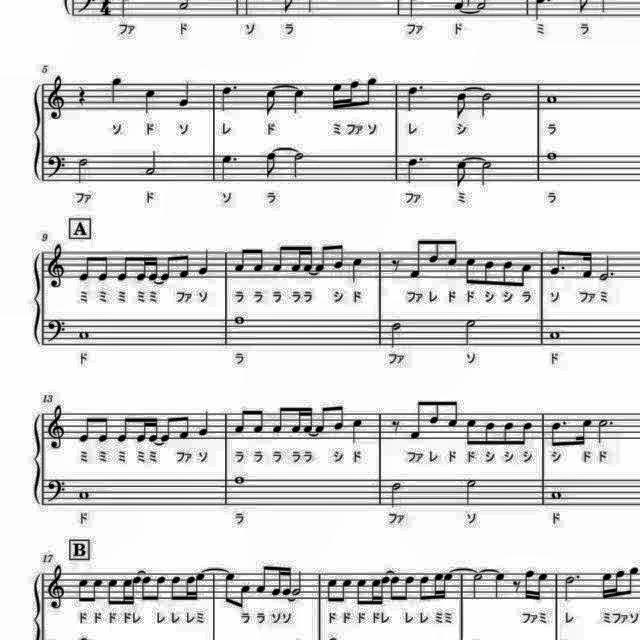Bass-clef: (44, 150, 68, 182), (44, 476, 68, 506), (46, 318, 70, 348)
Eighth-note: (408, 235, 426, 281), (408, 400, 424, 442), (549, 248, 569, 280), (220, 570, 237, 606), (263, 88, 281, 120), (263, 150, 281, 182), (550, 418, 568, 449), (454, 90, 471, 122), (114, 412, 130, 446), (76, 411, 92, 445), (114, 250, 130, 284), (96, 252, 112, 286), (362, 76, 378, 110), (254, 561, 270, 595), (271, 404, 287, 436), (446, 398, 462, 430), (446, 236, 462, 268), (272, 242, 288, 274), (76, 254, 92, 286), (96, 412, 112, 444), (176, 250, 192, 282), (332, 240, 348, 272), (462, 256, 478, 288), (462, 416, 478, 448), (352, 577, 368, 609), (158, 412, 174, 444), (104, 577, 120, 609), (454, 158, 470, 190), (158, 252, 174, 284), (140, 572, 156, 604), (426, 397, 442, 428), (332, 402, 348, 433), (176, 412, 192, 443), (498, 259, 514, 289), (250, 405, 266, 435), (250, 246, 266, 276), (168, 573, 184, 603), (90, 576, 106, 606), (74, 576, 90, 606), (518, 262, 534, 290), (426, 234, 440, 266), (232, 406, 248, 434), (314, 242, 328, 274), (232, 246, 248, 274), (417, 572, 431, 604), (626, 566, 640, 598), (483, 258, 497, 288), (314, 404, 328, 434), (324, 577, 338, 607), (403, 573, 417, 603), (155, 572, 169, 602), (500, 422, 516, 448), (483, 420, 497, 448), (239, 582, 253, 610), (614, 568, 626, 600), (520, 419, 534, 446), (342, 576, 354, 604), (390, 574, 400, 604)
Eighth-rest: (388, 256, 402, 276), (388, 416, 402, 436), (512, 578, 524, 598)
Full-note: (75, 328, 93, 344), (232, 474, 248, 490), (76, 486, 92, 502), (542, 93, 560, 107), (544, 148, 560, 162), (550, 488, 566, 502), (232, 313, 248, 327), (548, 328, 564, 340)
Half-dot: (562, 570, 582, 602), (597, 252, 617, 284), (594, 416, 614, 444)
Half-note: (142, 147, 160, 177), (387, 479, 405, 509), (461, 477, 479, 507), (464, 318, 481, 349), (74, 154, 90, 186), (478, 92, 496, 120), (290, 152, 306, 182), (388, 321, 404, 351), (468, 573, 484, 603), (479, 160, 496, 188)
Quarter-dot: (404, 80, 428, 114), (216, 80, 240, 112), (404, 156, 428, 187), (217, 150, 240, 182)
Quarter-note: (288, 86, 308, 118), (176, 78, 194, 110), (141, 86, 159, 118), (109, 74, 127, 106), (196, 246, 214, 278), (349, 415, 365, 445), (349, 256, 365, 286), (197, 409, 213, 439), (491, 571, 507, 601)
Quarter-rest: (74, 84, 88, 108)
Sixteenth-note: (572, 414, 594, 446), (533, 565, 551, 603), (520, 566, 538, 602), (598, 570, 614, 604), (580, 248, 596, 282), (328, 81, 344, 115), (346, 77, 362, 111), (298, 243, 314, 277), (288, 242, 304, 274), (135, 254, 151, 286), (298, 404, 314, 436), (135, 415, 151, 445), (289, 404, 303, 436), (279, 564, 293, 596), (145, 413, 159, 445), (432, 567, 444, 601), (370, 574, 382, 606), (272, 566, 284, 598), (148, 252, 160, 284)
Treble-clef: (46, 243, 72, 293), (44, 74, 68, 126), (44, 560, 68, 612), (44, 403, 68, 453)
